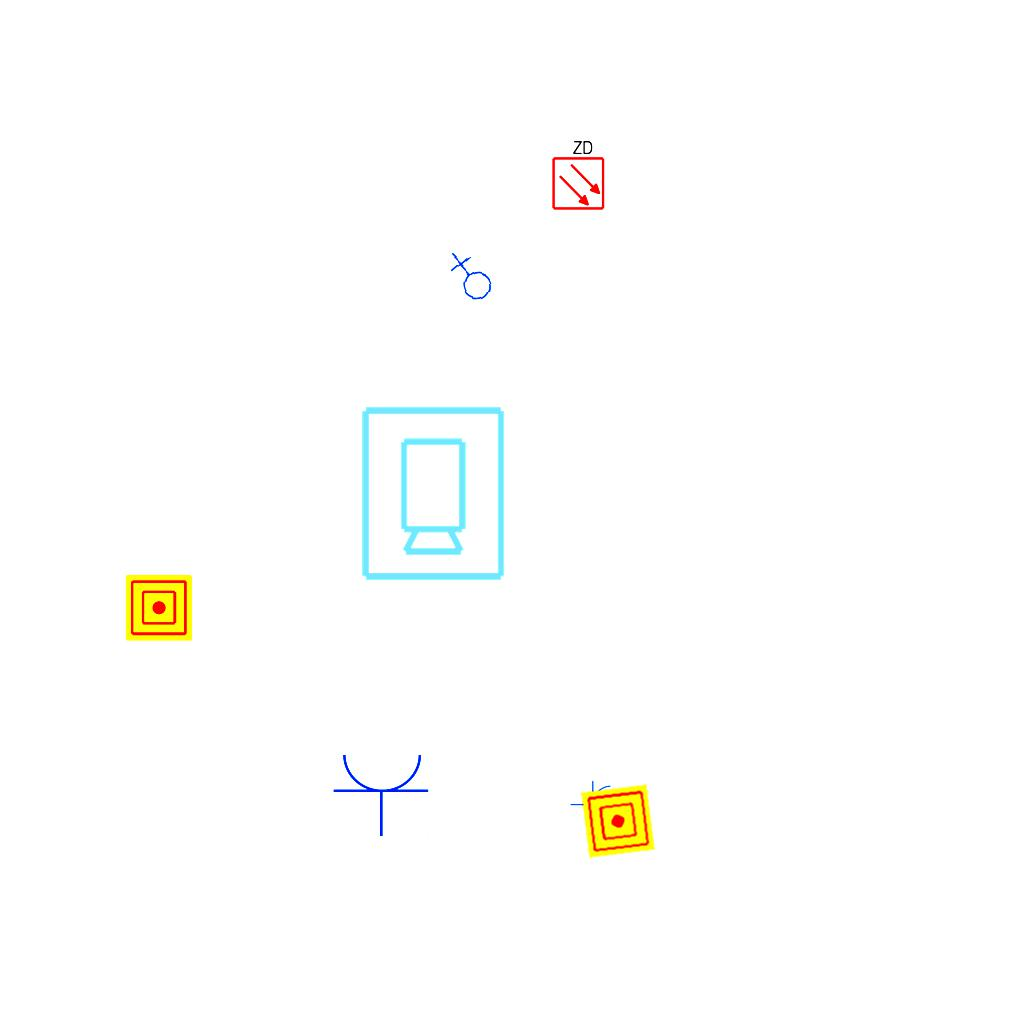Elektroanschluss_allgemein_230V_Geraeteanschlussdose_230V: (443, 251, 496, 306)
KFO_Kamera_mit_Festobjektiv: (355, 402, 509, 584)
NAM-Nichtautomatischer_Melder: (581, 784, 655, 858), (126, 575, 192, 641)
Schukosteckdose_einfach: (332, 750, 432, 837), (570, 780, 613, 830)
ZD_Melder_in_Zwischendecke_mit_Revisionsoeffnung_mind_40_x_40_cm: (549, 137, 606, 211)
